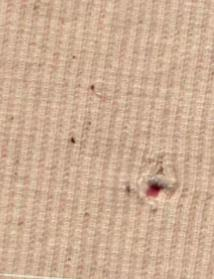hole: (129, 168, 178, 206)
stain: (62, 129, 92, 154), (80, 77, 114, 98)
